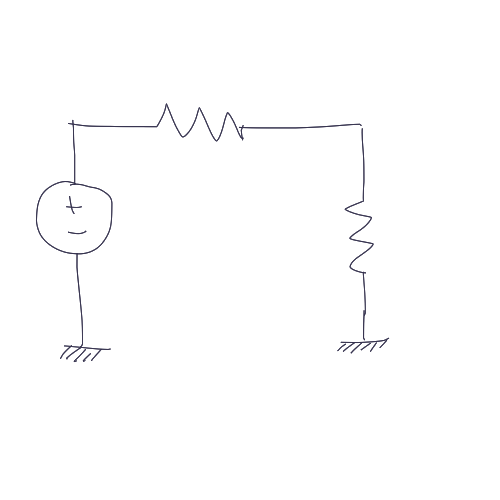dcvs: (33, 178, 114, 256)
gnd: (53, 341, 117, 361), (331, 338, 403, 354)
res: (144, 96, 256, 152), (336, 195, 386, 285)
